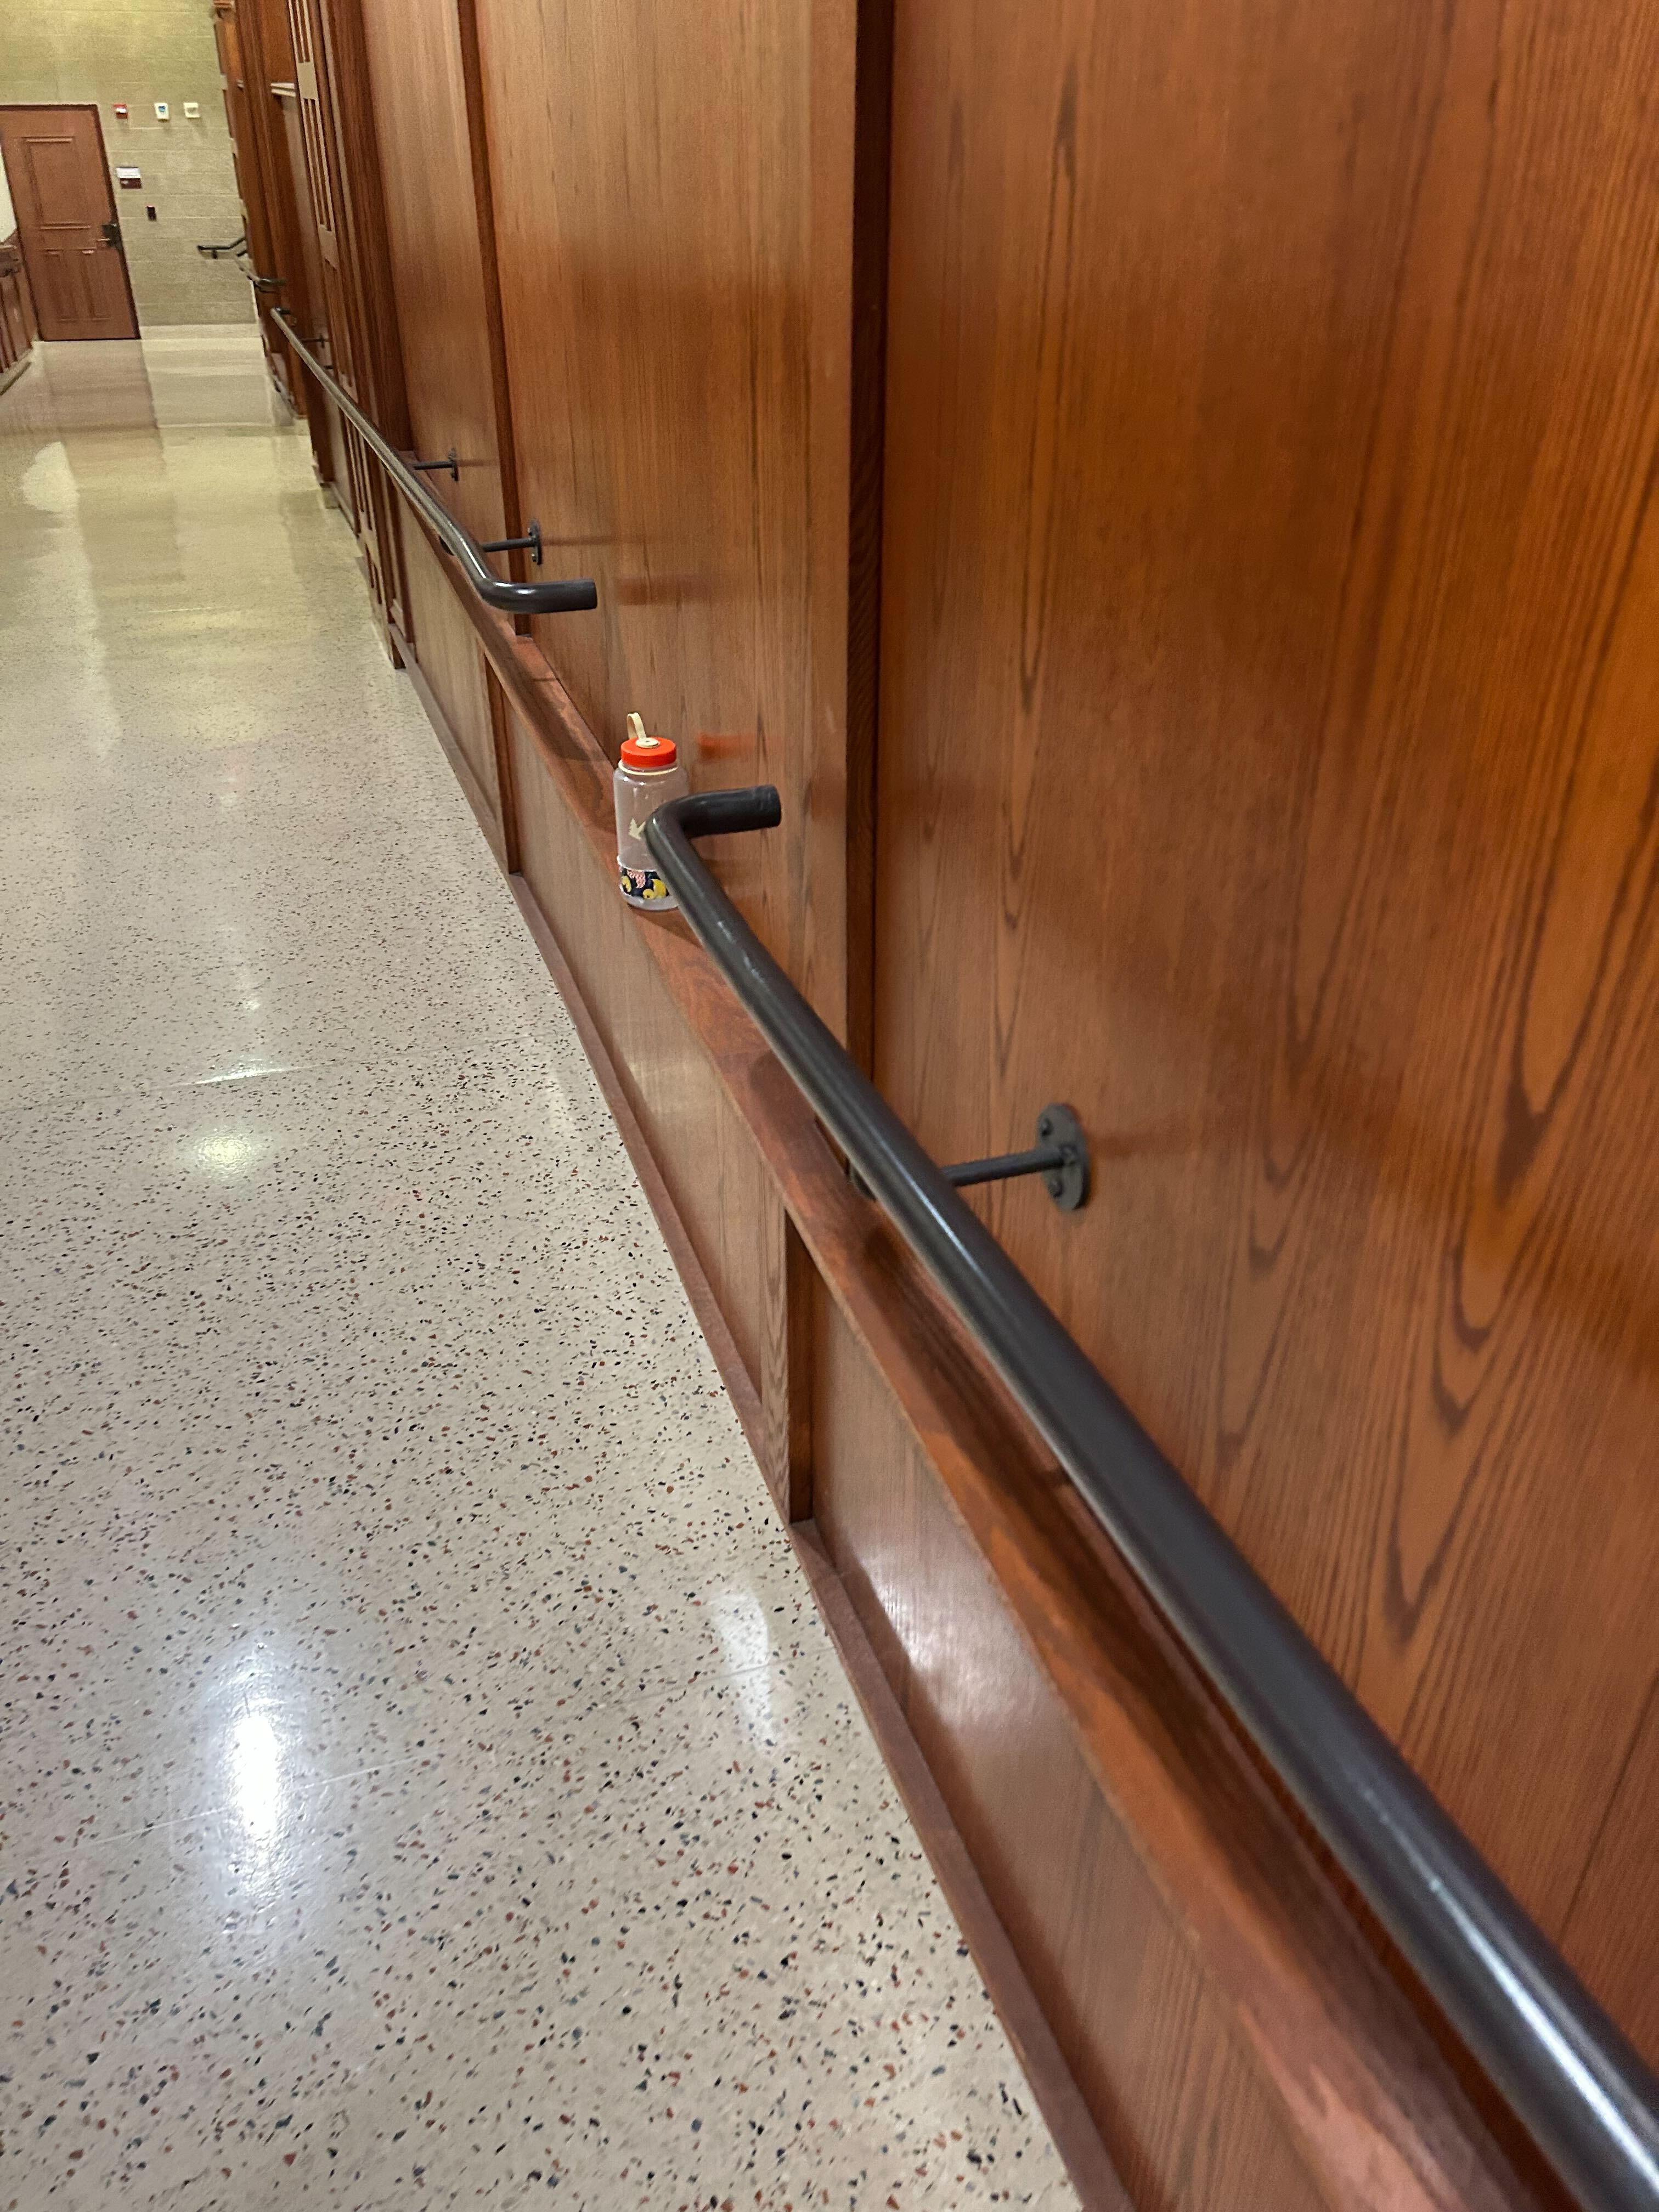bottle: (608, 700, 688, 918)
